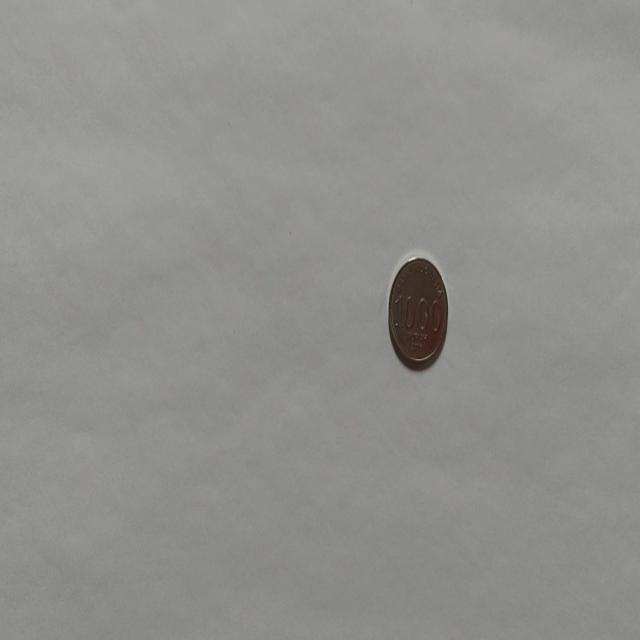seribu rupiah koin: (386, 252, 448, 370)
